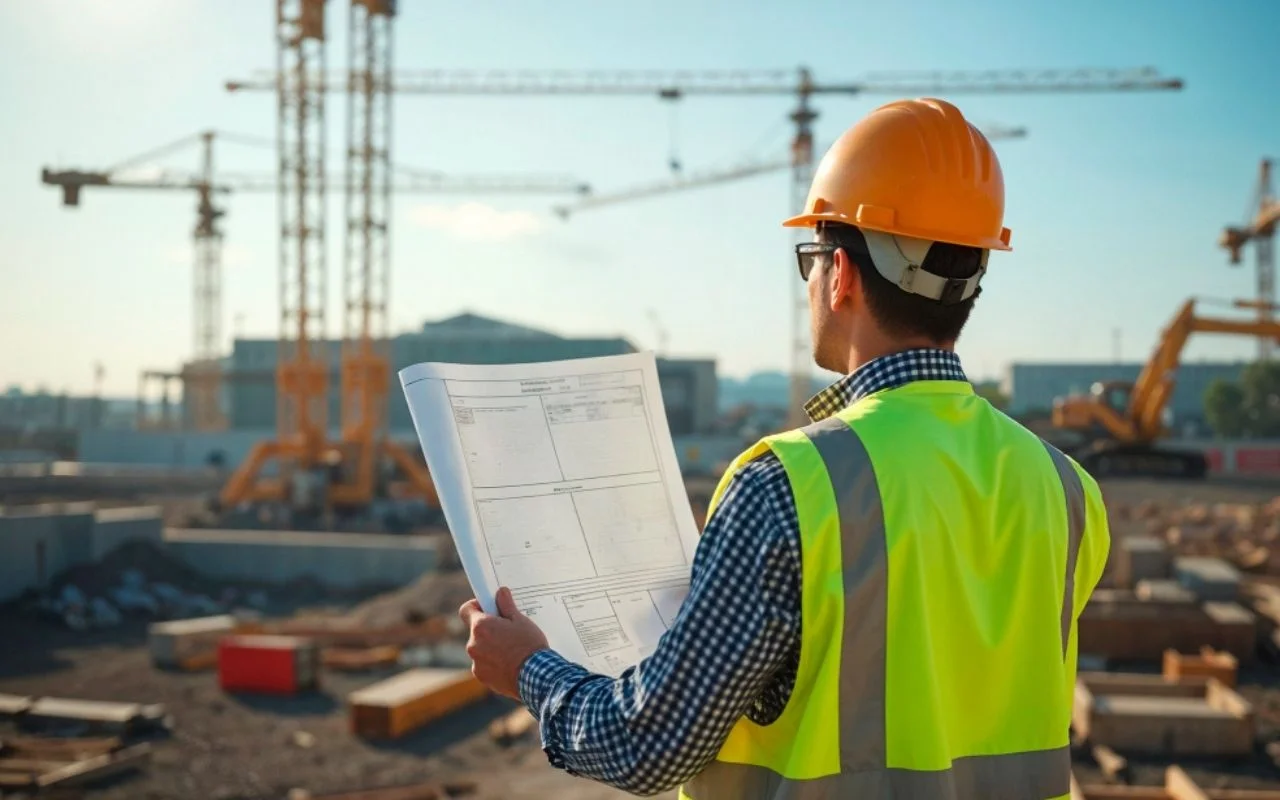Casco de seguridad: (783, 99, 1011, 250)
